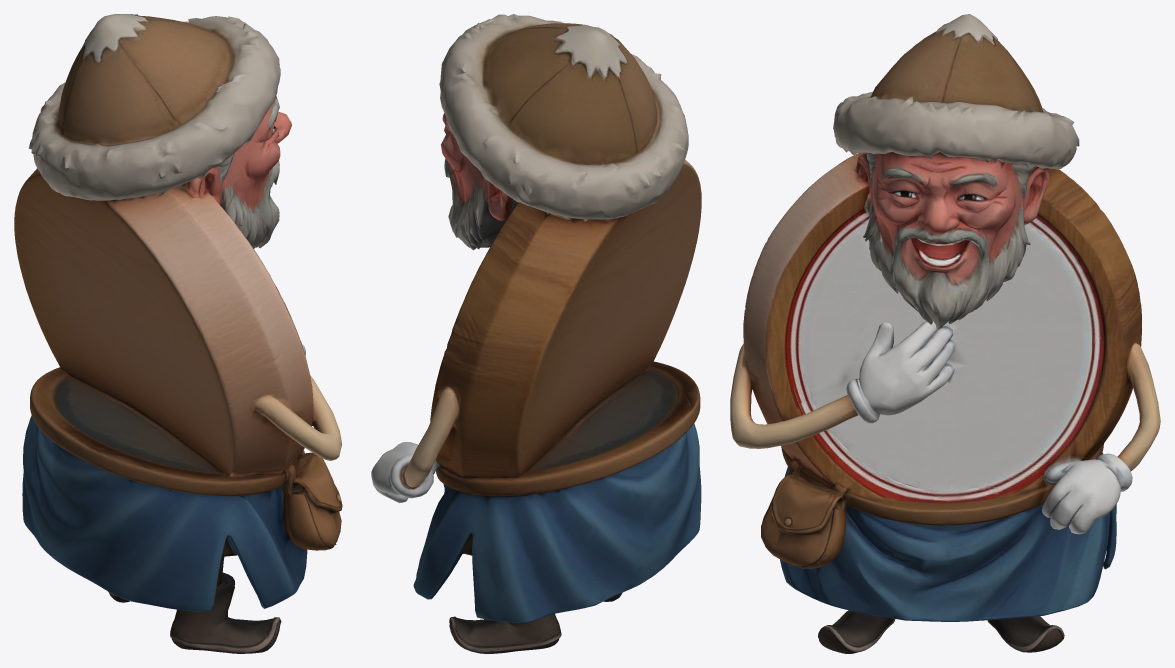
Rendered from p_agula.glb.
The picture shows the model from 3 angles, left to right: view 1: azimuth 30°, elevation 25°; view 2: azimuth 150°, elevation 25°; view 3: azimuth 270°, elevation 25°; orthographic projection. The views are drawn at different scales.
Visible parts, largest first — view 1: tripo_node_3bcef966-960b-47e4-8369-d69298f97131; view 2: tripo_node_3bcef966-960b-47e4-8369-d69298f97131; view 3: tripo_node_3bcef966-960b-47e4-8369-d69298f97131.
Boxes of the visible parts, x1=… form: tripo_node_3bcef966-960b-47e4-8369-d69298f97131: x1=14, y1=14, x2=342, y2=653; tripo_node_3bcef966-960b-47e4-8369-d69298f97131: x1=371, y1=14, x2=701, y2=653; tripo_node_3bcef966-960b-47e4-8369-d69298f97131: x1=730, y1=14, x2=1160, y2=653.
Size of the model in its own units: 0.3969 by 0.9769 by 0.6427.
1 material, 1 textured.
